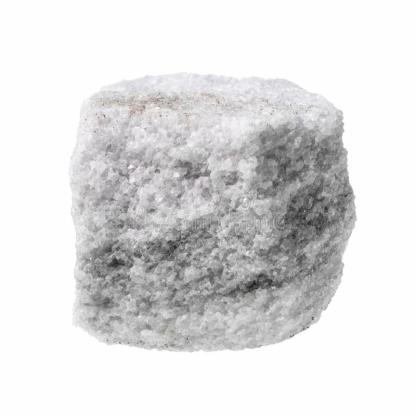Metamorphic_Marble: (53, 56, 358, 358)
